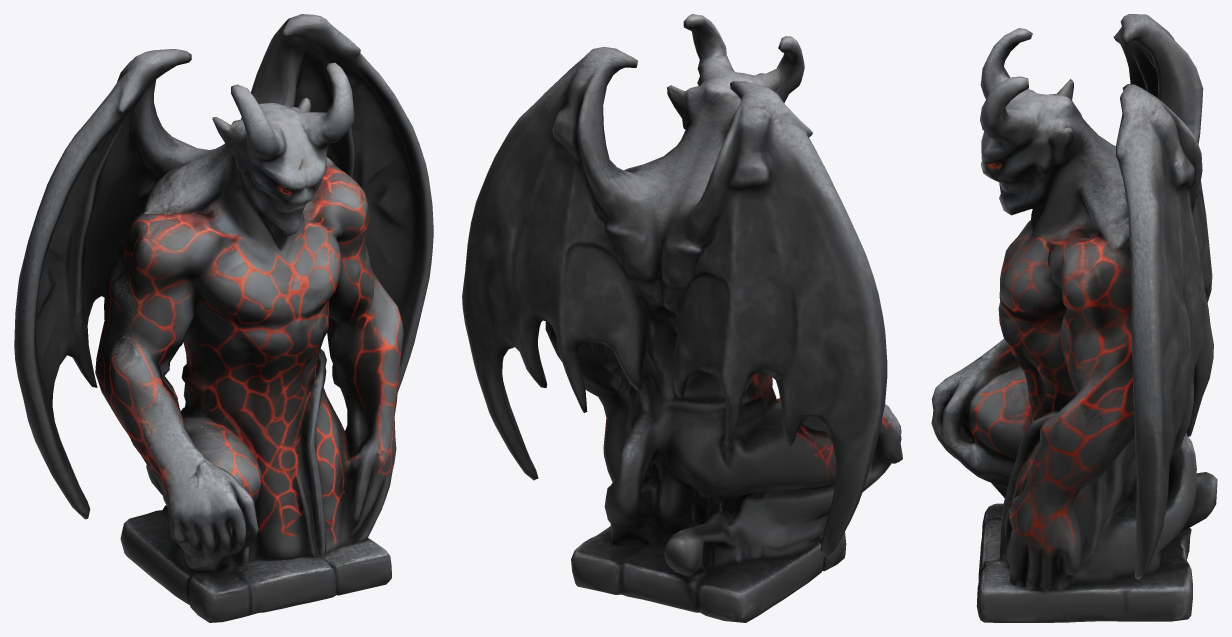
The model's file is ritual_demon_statue.glb.
3 views of the same model, side by side, from view 1: azimuth 30°, elevation 25°; view 2: azimuth 150°, elevation 25°; view 3: azimuth 270°, elevation 25° (orthographic). The views are drawn at different scales.
Size of the model in its own units: 1.68 by 2 by 0.9823.
Materials: 1 (1 with a texture image).
